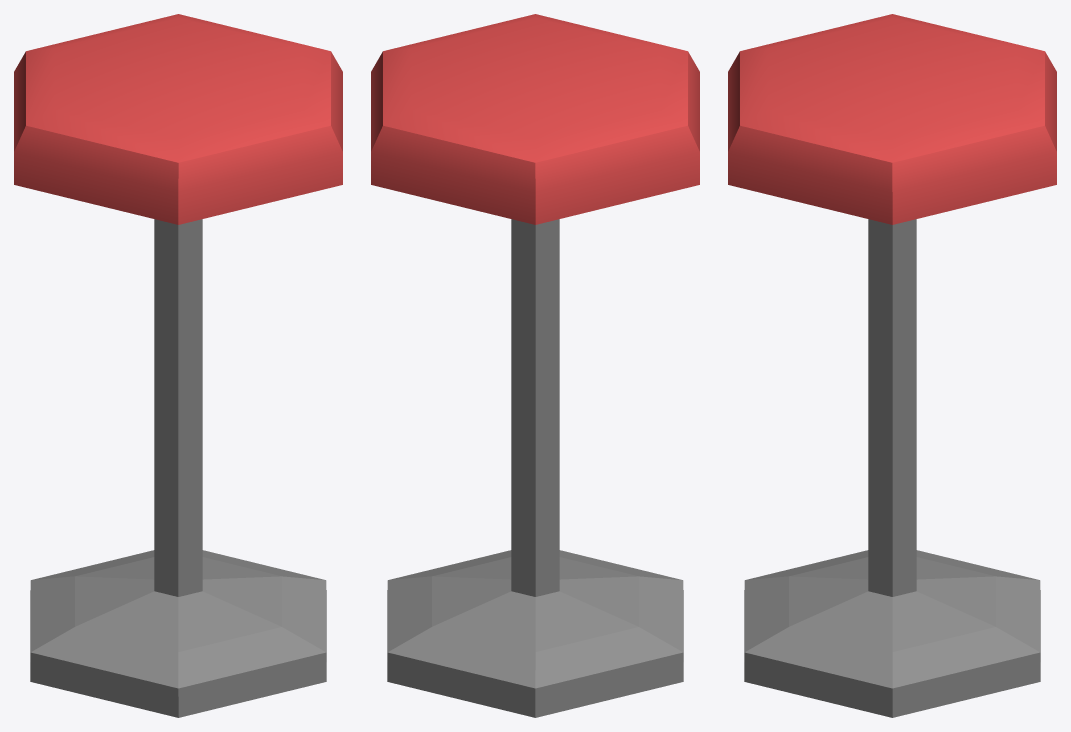
The model's file is Stool.fbx.
3 renders of one model, left to right at view 1: azimuth 30°, elevation 25°; view 2: azimuth 150°, elevation 25°; view 3: azimuth 270°, elevation 25°, orthographic.
Parts seen in each view (by area): view 1: Stool; view 2: Stool; view 3: Stool.
Boxes of the visible parts, box(x1,y1,x2,y2) form: Stool: box(14, 14, 342, 717); Stool: box(371, 14, 699, 717); Stool: box(728, 14, 1056, 717).
Size of the model in its own units: 2.73 by 4.5 by 2.37.
